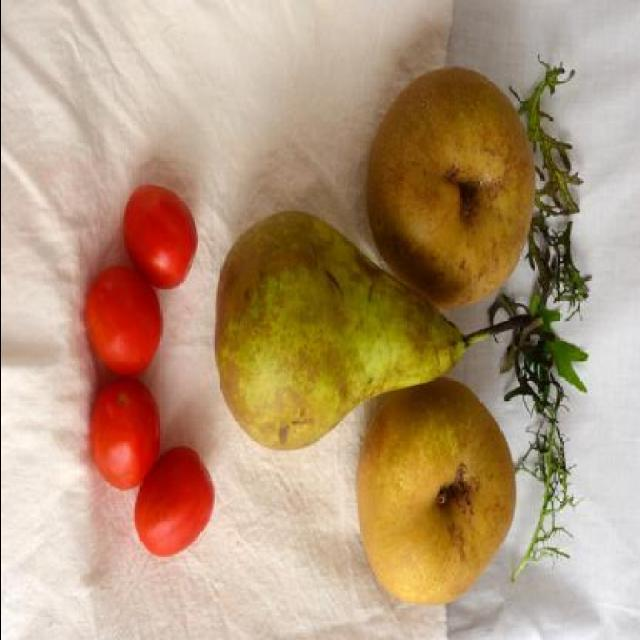Pear: (214, 214, 466, 450), (377, 76, 532, 299)
